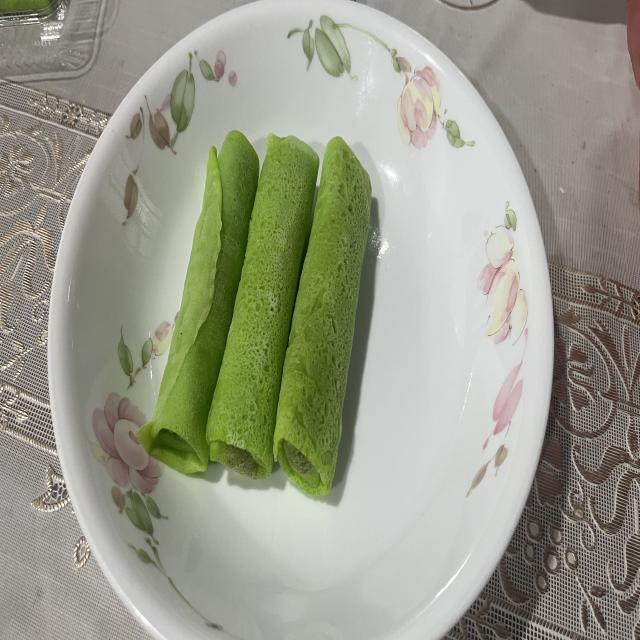Kuih-Ketayap: (140, 131, 259, 473), (206, 133, 319, 478), (274, 138, 371, 496)
